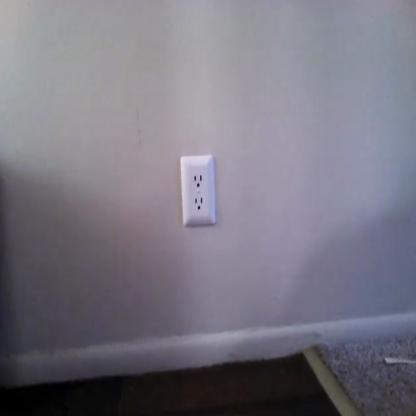OUTLET: (178, 154, 218, 229)
